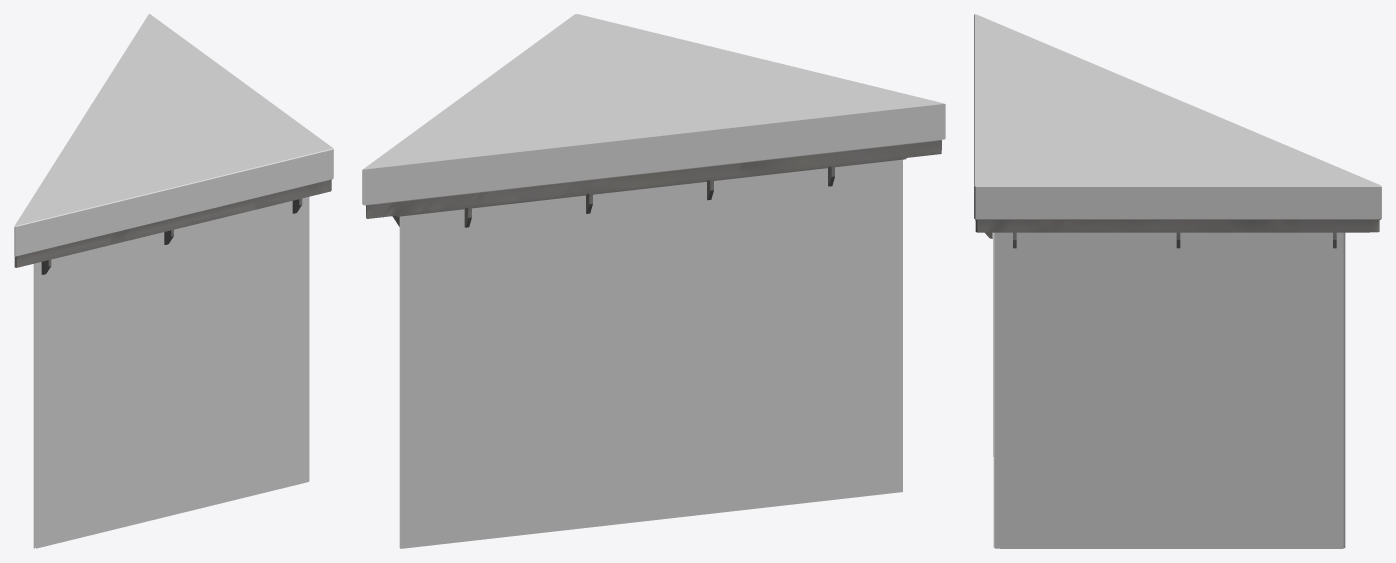
The model's file is SM_FloorTryangle_Glass_112776.glb.
3 views of the same model, side by side, from view 1: azimuth 30°, elevation 25°; view 2: azimuth 150°, elevation 25°; view 3: azimuth 270°, elevation 25° (orthographic). The views are drawn at different scales.
Size of the model in its own units: 3.99 by 4.01 by 3.99.
Materials: 2 (1 with a texture image).
